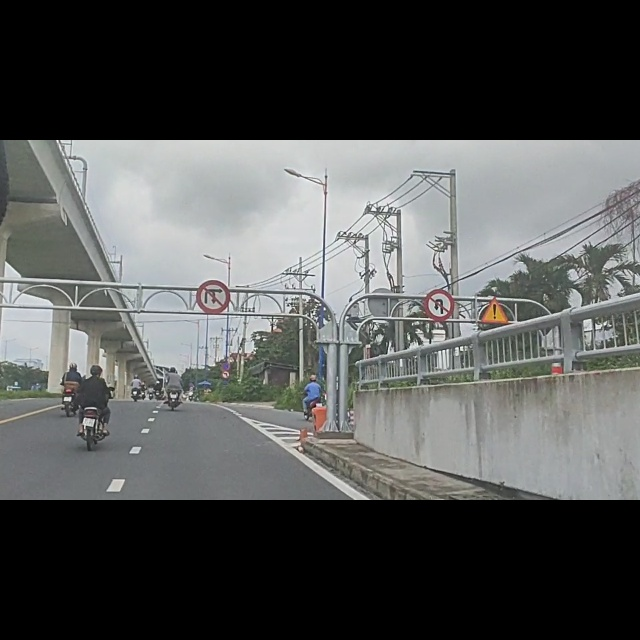bien_nguy_hiem: (196, 248, 232, 312), (422, 264, 454, 320), (481, 280, 510, 327), (220, 392, 231, 409), (221, 409, 231, 424)
